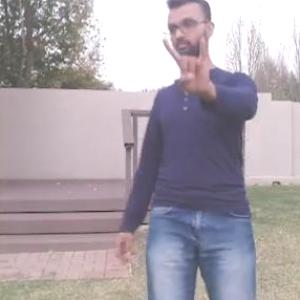takeoff-hand: (158, 28, 221, 100)
